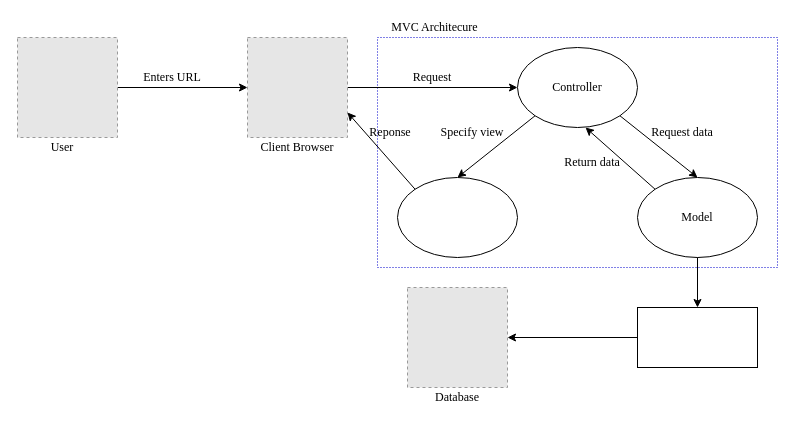
Some shapes in this 795 by 424 pixel diagram are drawn without their labels. Grey dashed boxes stand in for pictures. Here are the shapes that lost their labels. From the top down, the centre of each, then its label:
At pixel 457 217: "View".
At pixel 697 337: "Database access layer or service".
